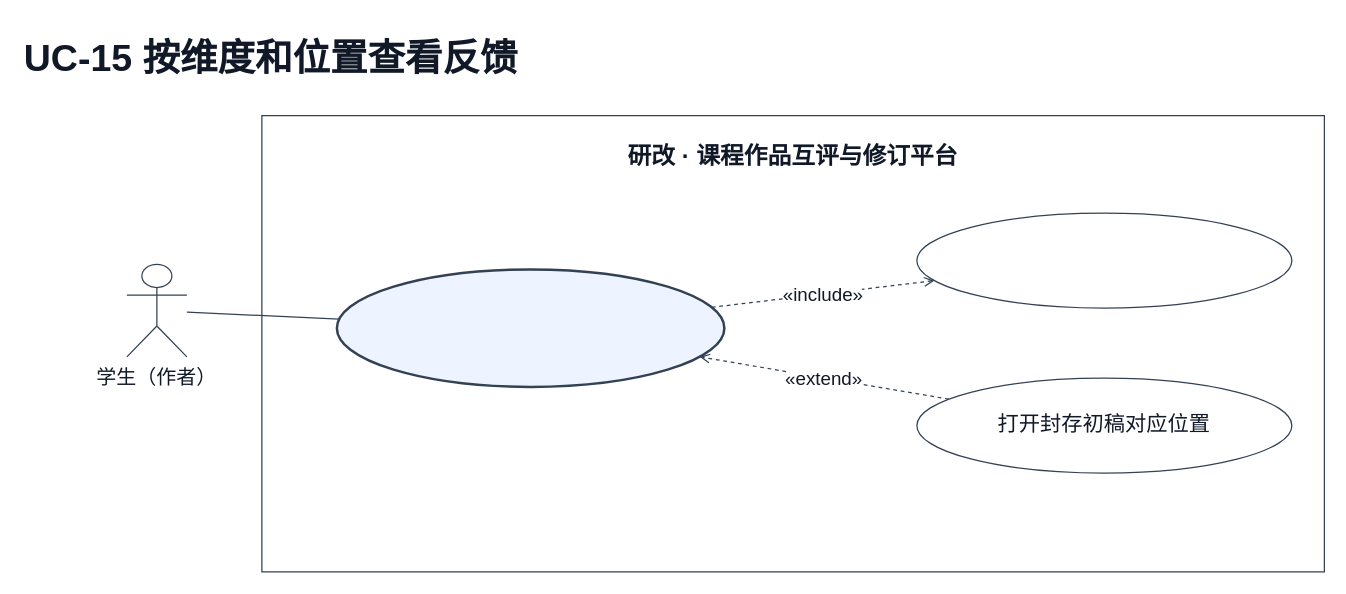
The diagram is 1346 pixels wide and 594 high, and some of its shapes have lost their labels. Each missing label, with the centre of its shape:
"按维度和位置查看反馈" belongs at (530,328).
"按评价维度查阅已发布反馈" belongs at (1104,260).
